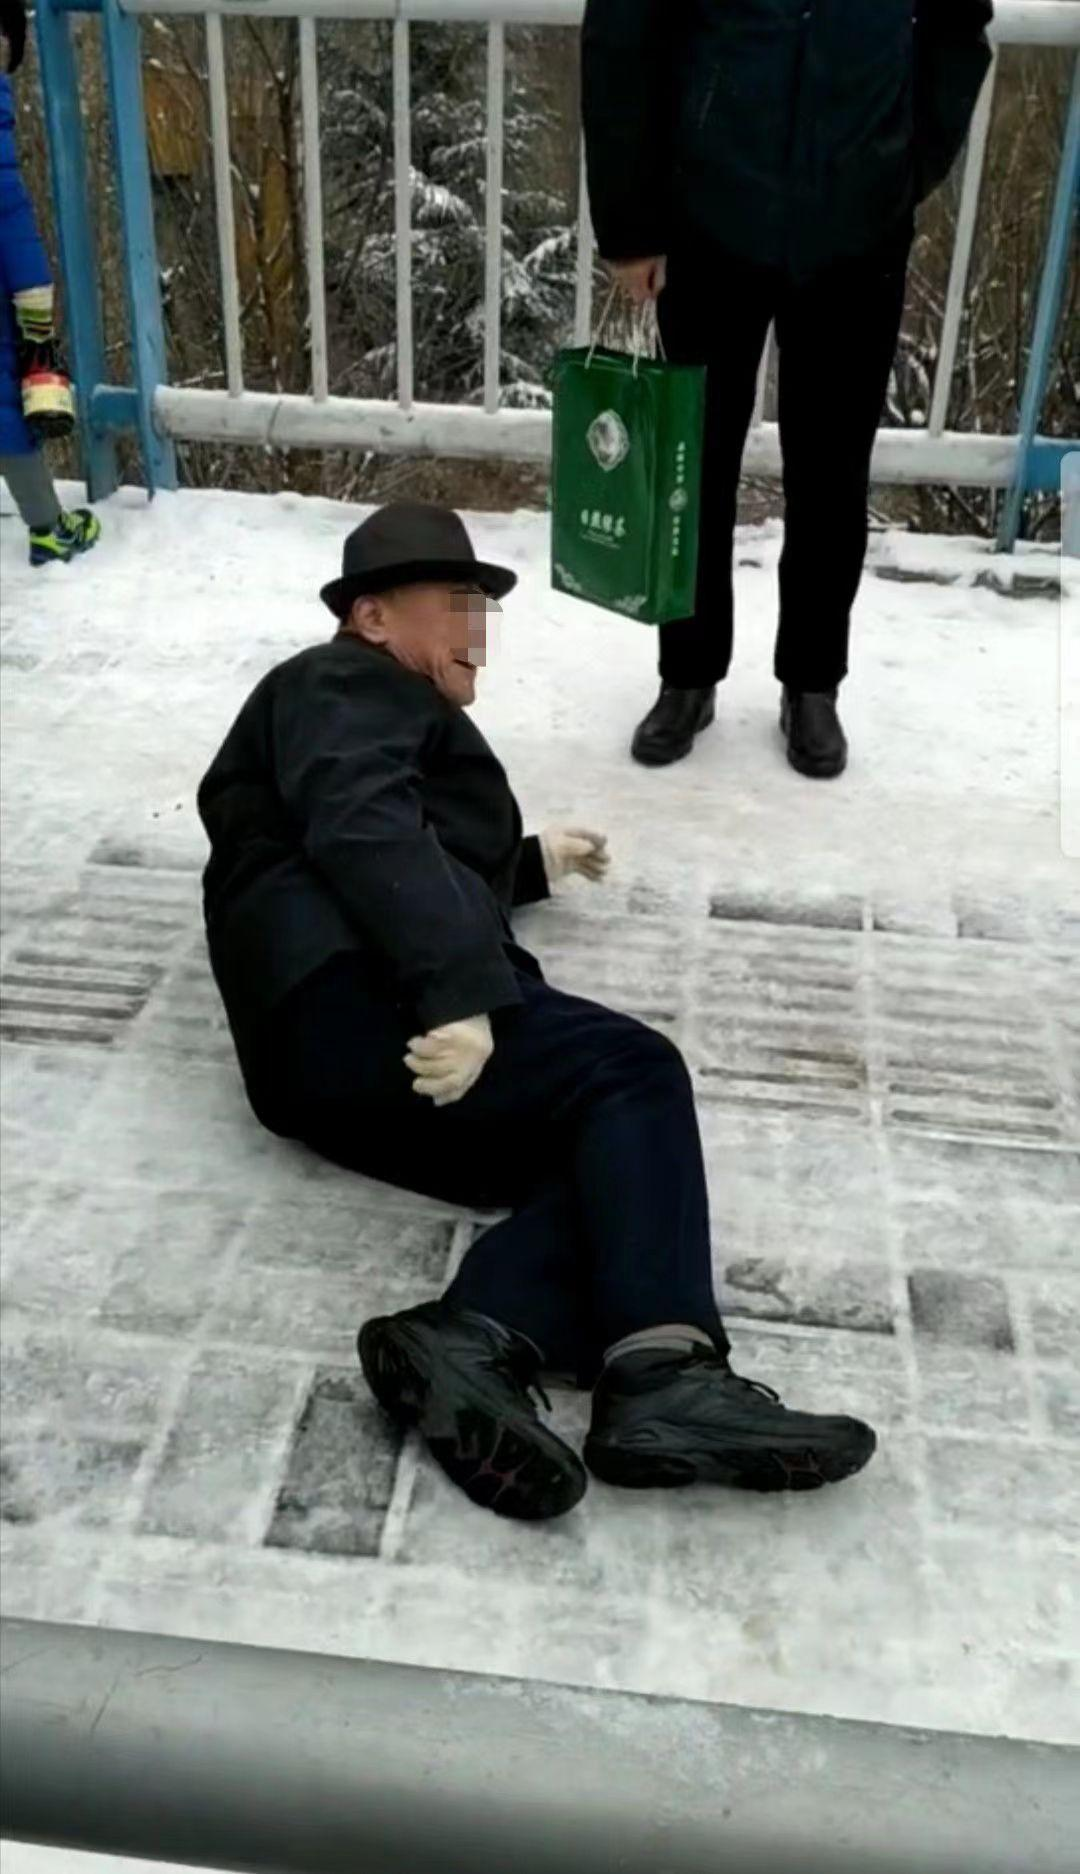down: (163, 469, 902, 1545)
up: (565, 1, 998, 795)
